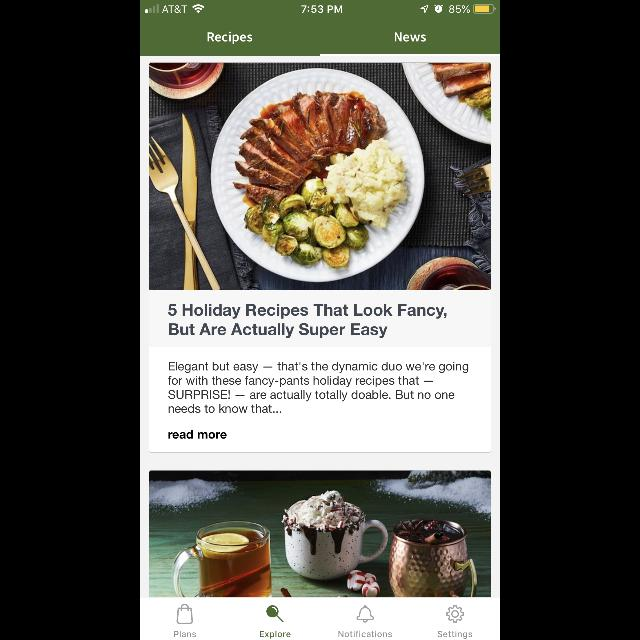icon: (177, 604, 193, 624), (266, 606, 284, 622), (356, 606, 374, 622), (446, 606, 464, 622)
image: (150, 64, 490, 290), (150, 471, 490, 597)
text: (168, 362, 468, 412), (169, 304, 447, 338), (208, 32, 252, 44), (169, 429, 227, 438), (338, 630, 392, 638), (394, 32, 426, 42), (438, 631, 472, 639), (260, 631, 292, 639), (174, 631, 196, 637)
uppertaskbar: (140, 0, 500, 14)
